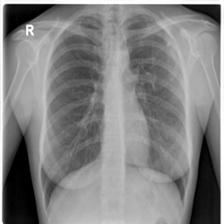tuberculosis: (34, 9, 194, 211)
